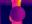Hotspot: (15, 0, 21, 6)
